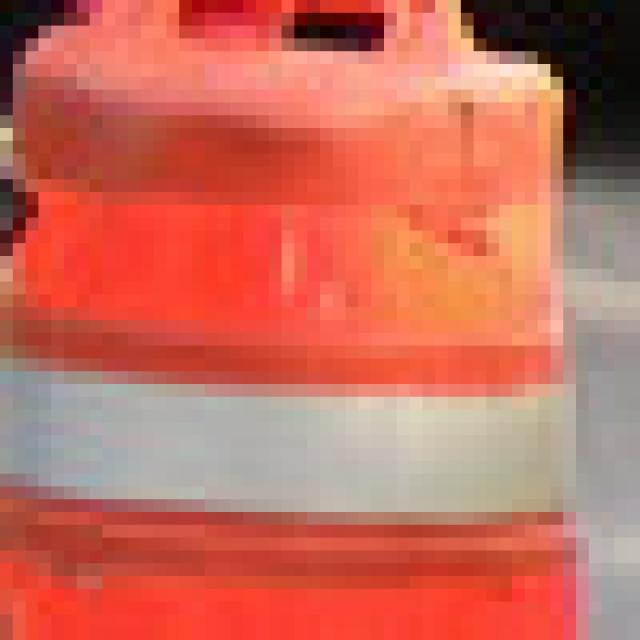no_fire: (10, 10, 562, 640)
